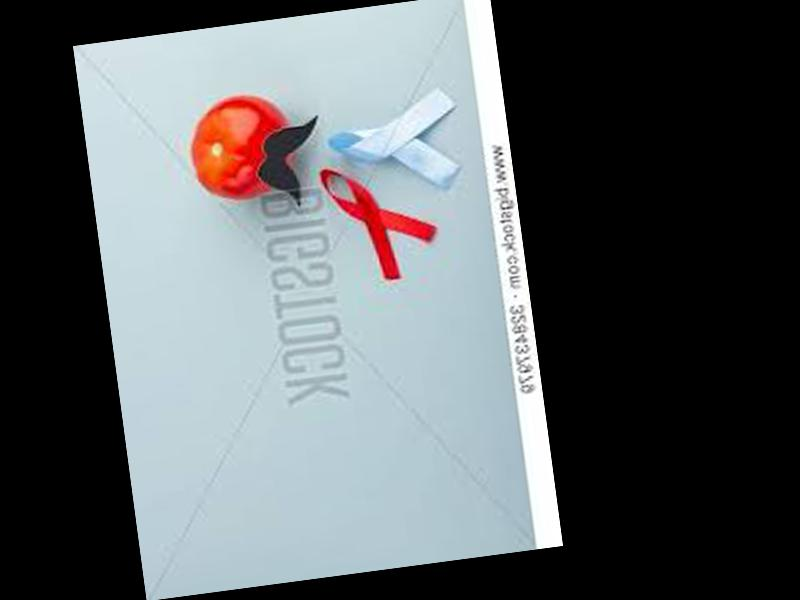Tomato: (184, 90, 299, 206)
